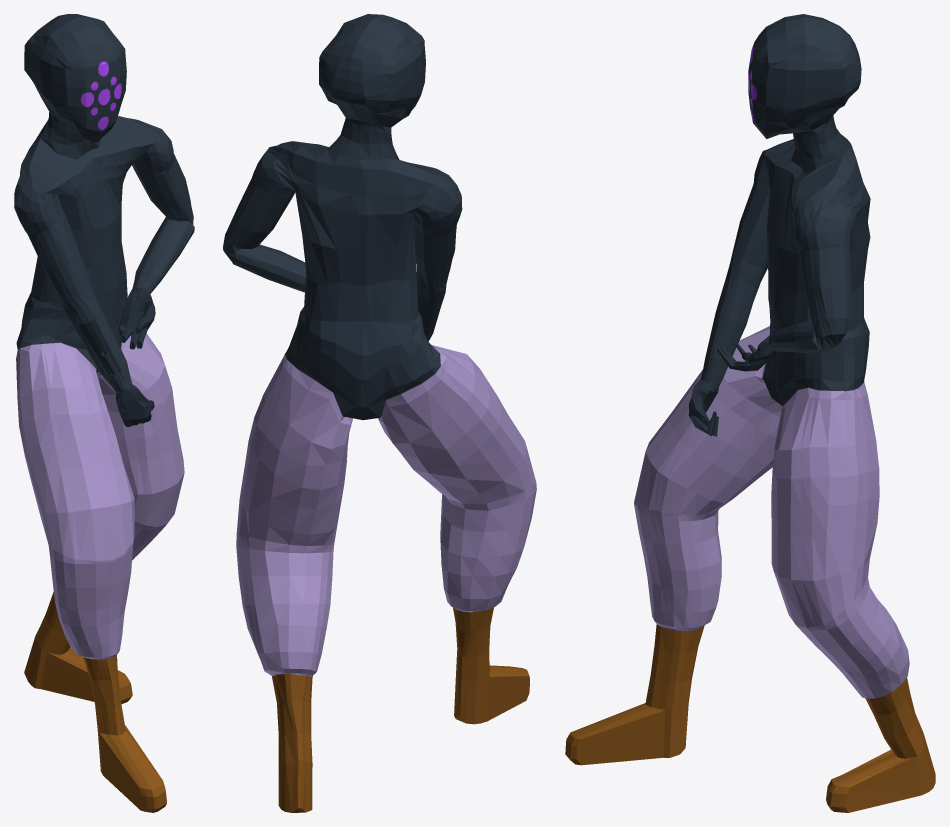
The model's file is Oracle_WF_000011.obj.
The picture shows the model from 3 angles, left to right: view 1: azimuth 30°, elevation 25°; view 2: azimuth 150°, elevation 25°; view 3: azimuth 270°, elevation 25°; orthographic projection. The views are drawn at different scales.
Parts seen in each view (by area): view 1: Cube; view 2: Cube; view 3: Cube.
Part boxes in pixels (<box>): Cube: <box>14,14,194,812</box>; Cube: <box>223,14,536,812</box>; Cube: <box>565,14,935,812</box>.
Size of the model in its own units: 1.18 by 3.76 by 1.66.
